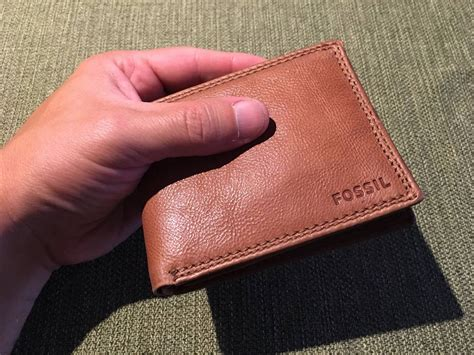cuero: (118, 40, 412, 287)
